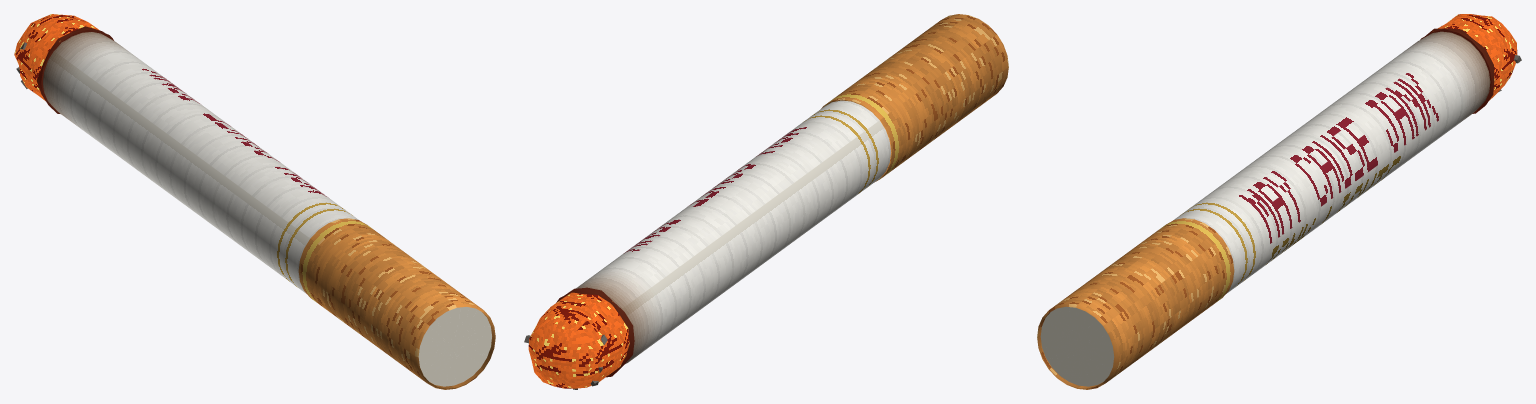
Rendered from w_cig.glb.
3 views of the same model, side by side, from view 1: azimuth 30°, elevation 25°; view 2: azimuth 150°, elevation 25°; view 3: azimuth 330°, elevation 25° (orthographic).
Parts seen in each view (by area): view 1: cig_body_wzB, cig_body_wzA, tip, cig_body_wzN; view 2: cig_body_wzB, cig_body_wzA, tip, cig_body_wzN; view 3: cig_body_wzB, cig_body_wzA, tip, cig_body_wzN.
Part boxes in pixels (<box>): cig_body_wzB: <box>43,32,358,293</box>; cig_body_wzA: <box>298,218,495,389</box>; tip: <box>14,14,98,100</box>; cig_body_wzN: <box>36,26,113,113</box>; cig_body_wzB: <box>576,100,890,364</box>; cig_body_wzA: <box>821,14,1008,182</box>; tip: <box>524,292,629,389</box>; cig_body_wzN: <box>556,287,634,377</box>; cig_body_wzB: <box>1173,31,1490,293</box>; cig_body_wzA: <box>1037,218,1234,389</box>; tip: <box>1438,14,1521,100</box>; cig_body_wzN: <box>1420,28,1494,113</box>.
Bounding box in the file's own units: 0.0207 × 0.0206 × 0.1822.
Materials: 6 (5 with a texture image).
